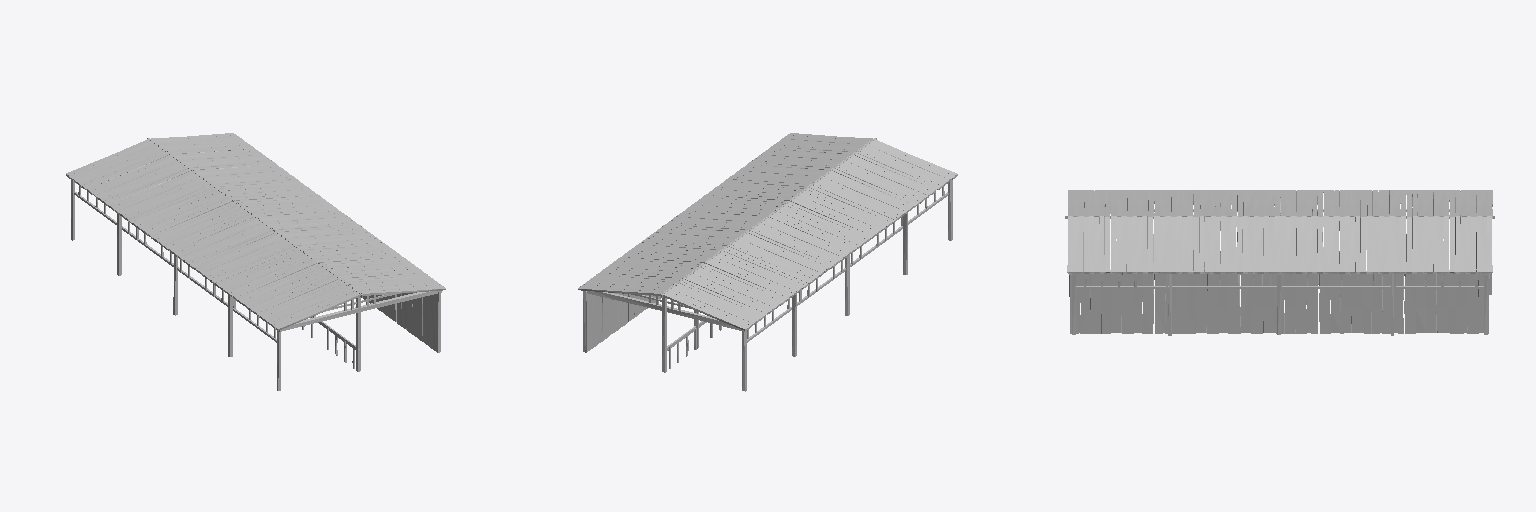
File: warehouse_wooden.obj
3 views of the same model, side by side, from view 1: azimuth 30°, elevation 25°; view 2: azimuth 150°, elevation 25°; view 3: azimuth 270°, elevation 25° (orthographic).
Parts seen in each view (by area): view 1: warehouse_wooden; view 2: warehouse_wooden; view 3: warehouse_wooden.
Boxes of the visible parts, x1=… form: warehouse_wooden: x1=66, y1=133, x2=445, y2=390; warehouse_wooden: x1=578, y1=133, x2=957, y2=391; warehouse_wooden: x1=1065, y1=190, x2=1494, y2=335.
Size of the model in its own units: 15.83 by 7.15 by 34.99.